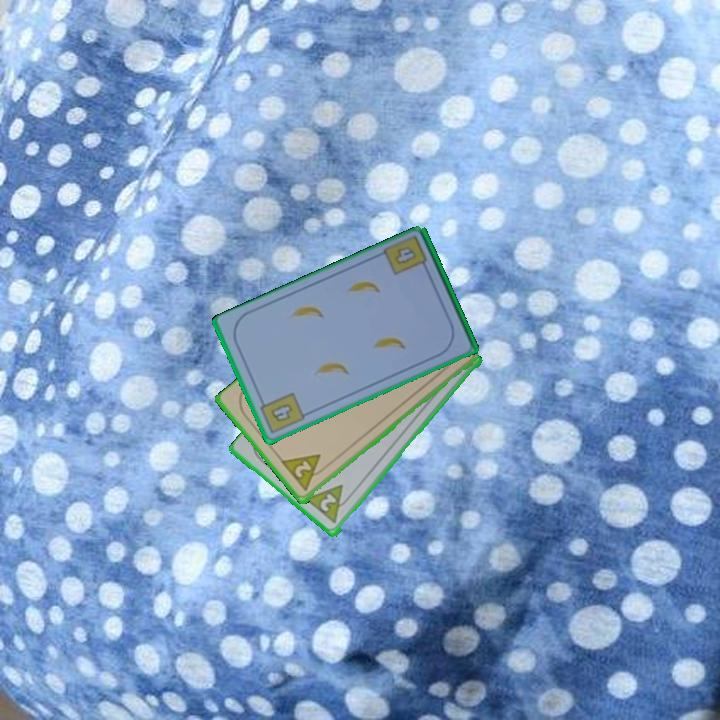2p: (278, 450, 332, 495), (316, 490, 340, 515)
4b: (256, 389, 308, 437), (391, 243, 419, 268)
